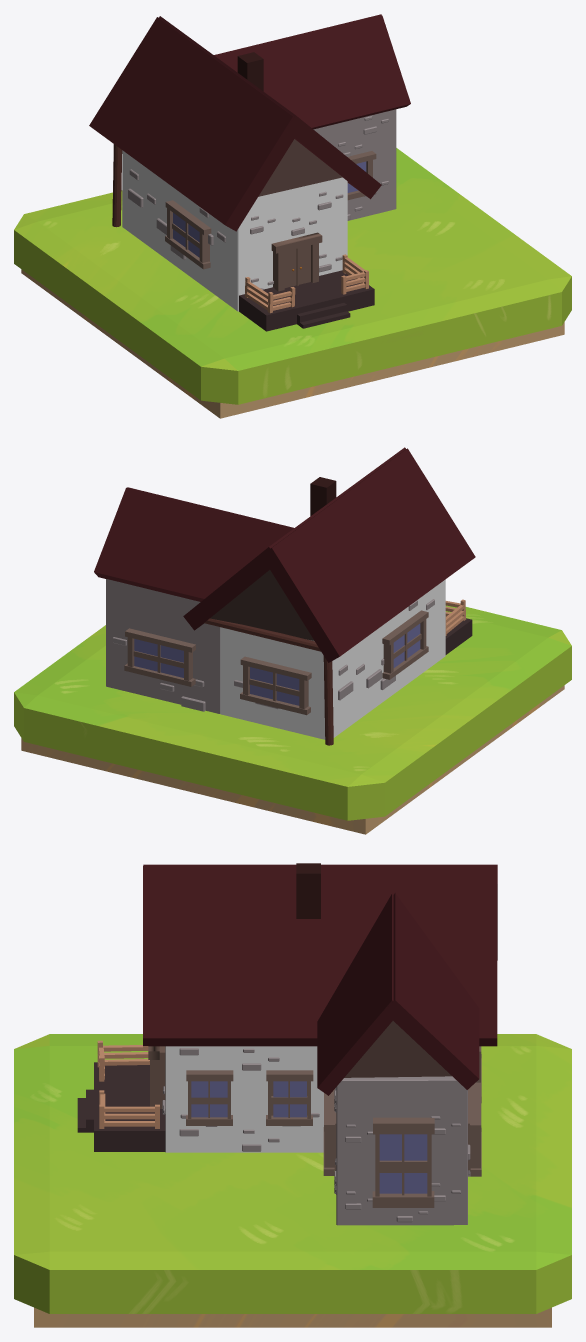
File: housetile.fbx
3 renders of one model, top to bottom at view 1: azimuth 30°, elevation 25°; view 2: azimuth 150°, elevation 25°; view 3: azimuth 270°, elevation 25°, orthographic. The views are drawn at different scales.
Parts seen in each view (by area): view 1: house, Cube.001, Cube; view 2: house, Cube.001, Cube; view 3: house, Cube.001, Cube.
Boxes of the visible parts, bbox=[...] form: house: bbox=[89, 14, 410, 331]; Cube.001: bbox=[14, 148, 571, 404]; Cube: bbox=[21, 269, 564, 418]; house: bbox=[94, 447, 475, 745]; Cube.001: bbox=[14, 605, 571, 820]; Cube: bbox=[21, 685, 564, 834]; house: bbox=[77, 863, 497, 1225]; Cube.001: bbox=[14, 1034, 571, 1313]; Cube: bbox=[34, 1307, 551, 1327].
Size of the model in its own units: 108 by 69.56 by 108.
